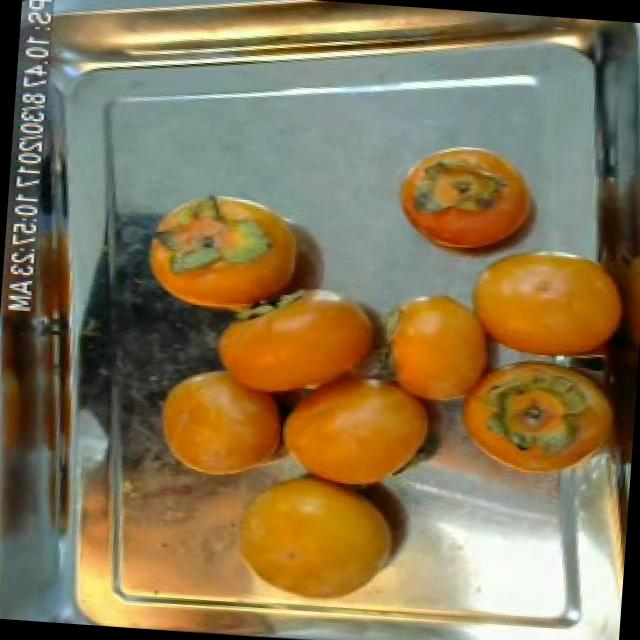Fruit: (132, 175, 332, 326), (261, 358, 448, 502), (441, 354, 630, 494), (449, 231, 640, 364), (139, 350, 312, 495), (382, 130, 556, 266), (371, 274, 512, 415)
